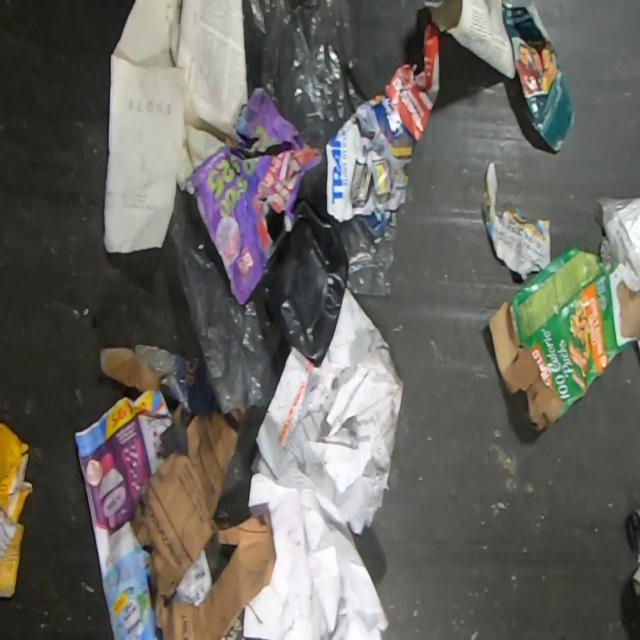cardboard: (134, 412, 276, 640), (482, 244, 640, 437), (99, 345, 221, 457), (0, 421, 34, 601)
rigid_plastic: (256, 198, 349, 367)
soft_plastic: (166, 183, 290, 417), (242, 0, 374, 149), (338, 219, 398, 300), (598, 194, 640, 295)
